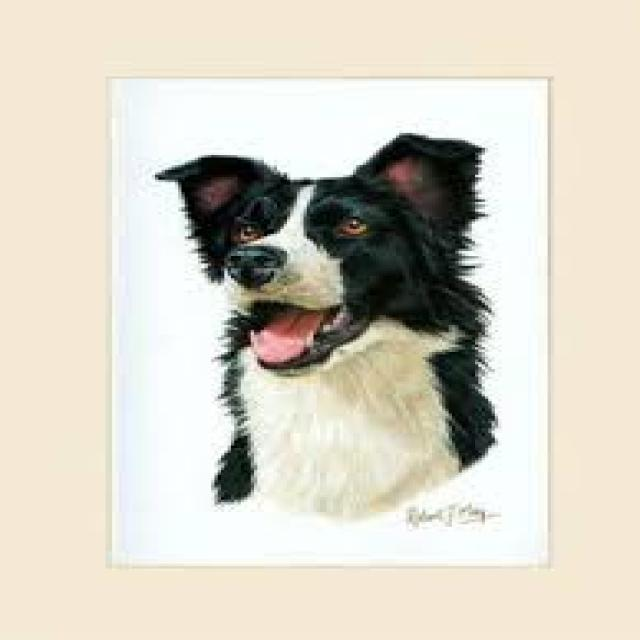ALASKAN_MALAMUTE: (130, 114, 546, 550)
